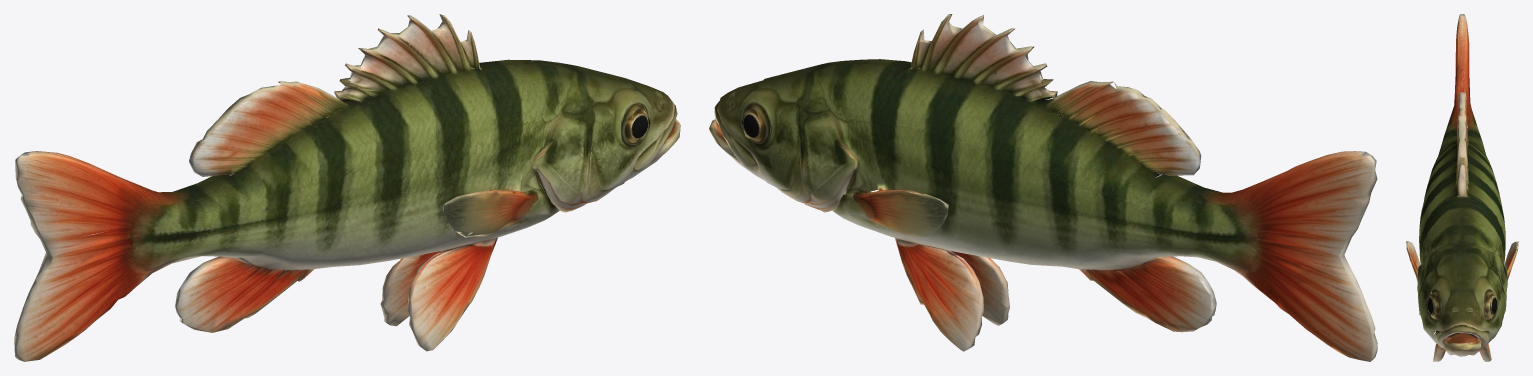
Rendered from perch.glb.
3 views of the same model, side by side, from view 1: azimuth 30°, elevation 25°; view 2: azimuth 150°, elevation 25°; view 3: azimuth 270°, elevation 25° (orthographic). The views are drawn at different scales.
Visible parts, largest first — view 1: perch; view 2: perch; view 3: perch.
Boxes of the visible parts, bbox=[...] form: perch: bbox=[14, 14, 680, 361]; perch: bbox=[709, 14, 1377, 361]; perch: bbox=[1406, 14, 1518, 361].
Bounding box in the file's own units: 1 × 0.4634 × 0.1966.
1 material, 1 textured.
